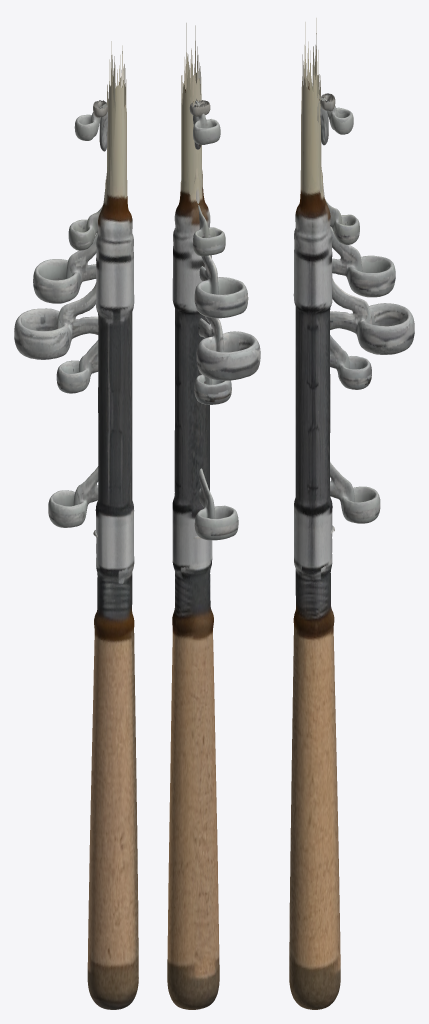
Rendered from float_fjordline.glb.
3 views of the same model, side by side, from view 1: azimuth 90°, elevation 25°; view 2: azimuth 210°, elevation 25°; view 3: azimuth 270°, elevation 25° (orthographic).
Visible parts, largest first — view 1: Handle, Seg0, Seg2, Seg4, Seg5, Seg6, Seg7, Seg1, Seg9; view 2: Handle, Seg0, Seg2, Seg4, Seg5, Seg6, Seg7, Seg8, Seg1; view 3: Handle, Seg0, Seg2, Seg4, Seg5, Seg6, Seg7, Seg1, Seg9.
Boxes of the visible parts, bbox=[...] form: Handle: bbox=[87, 154, 138, 1009]; Seg0: bbox=[14, 41, 126, 359]; Seg2: bbox=[33, 55, 125, 303]; Seg4: bbox=[48, 59, 124, 527]; Seg5: bbox=[56, 56, 124, 393]; Seg6: bbox=[68, 51, 123, 250]; Seg7: bbox=[74, 82, 119, 140]; Seg1: bbox=[110, 45, 126, 152]; Seg9: bbox=[93, 105, 107, 537]; Handle: bbox=[167, 141, 219, 1009]; Seg0: bbox=[181, 23, 260, 380]; Seg2: bbox=[182, 46, 248, 318]; Seg4: bbox=[184, 52, 238, 540]; Seg5: bbox=[184, 48, 231, 404]; Seg6: bbox=[186, 57, 225, 256]; Seg7: bbox=[185, 89, 220, 144]; Seg8: bbox=[189, 100, 210, 116]; Seg1: bbox=[182, 25, 200, 144]; Handle: bbox=[289, 142, 340, 1009]; Seg0: bbox=[301, 18, 414, 354]; Seg2: bbox=[302, 41, 395, 297]; Seg4: bbox=[303, 45, 380, 523]; Seg5: bbox=[304, 45, 371, 389]; Seg6: bbox=[305, 65, 359, 244]; Seg7: bbox=[308, 81, 353, 134]; Seg1: bbox=[301, 22, 320, 144]; Seg9: bbox=[317, 100, 334, 533].
Size of the model in its own units: 0.0411 by 0.6908 by 0.0791.
1 material, 1 textured.
